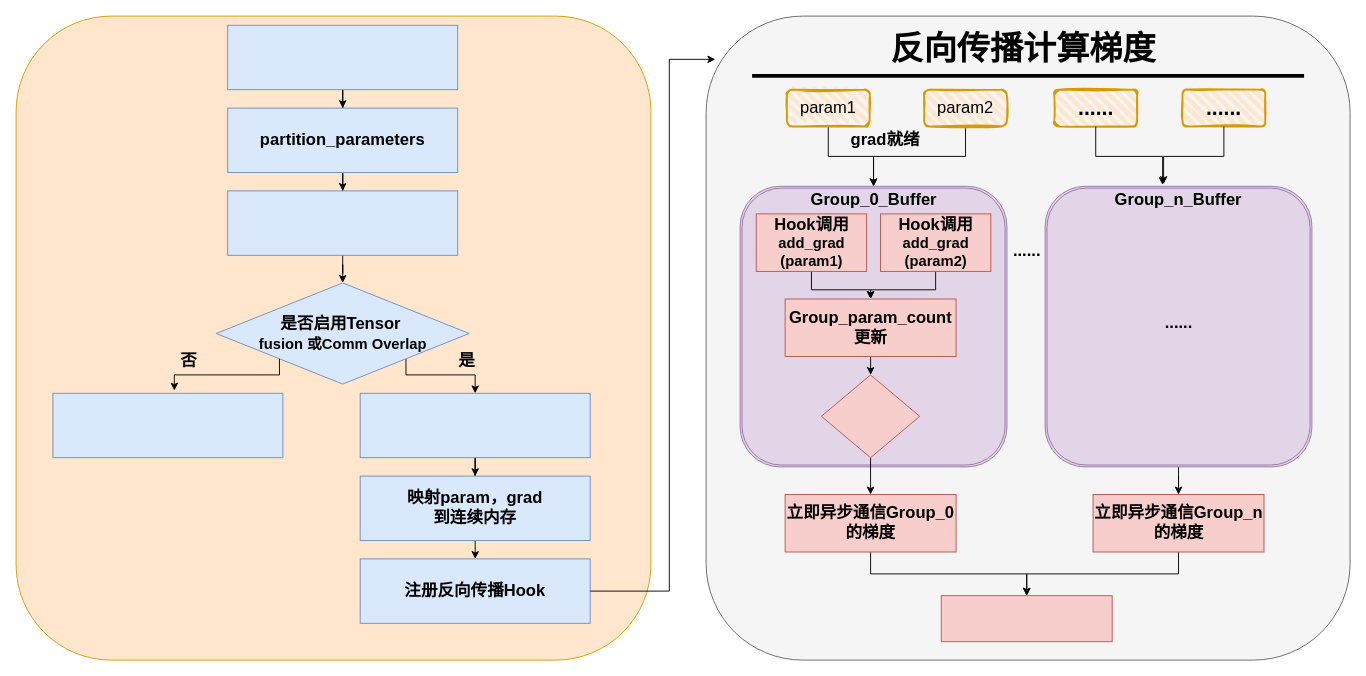
This 1366x676 diagram has some shape labels left out. Here are the shapes that lost their labels. From the top down, the centre of each, then its label:
At (342,57): "DygraphShardingOptimizer 初始化".
At (342,222): "map_param_to_rank".
At (167,425): "set_local_param_to _inner_optimizer".
At (474,425): "创建FusedCommBuffer".
At (870,416): "all param ready".
At (1026,618): "Optimizer等待所有grad通信完成".
